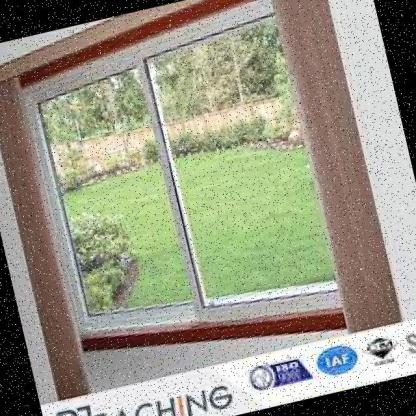Window: (1, 0, 387, 387)
